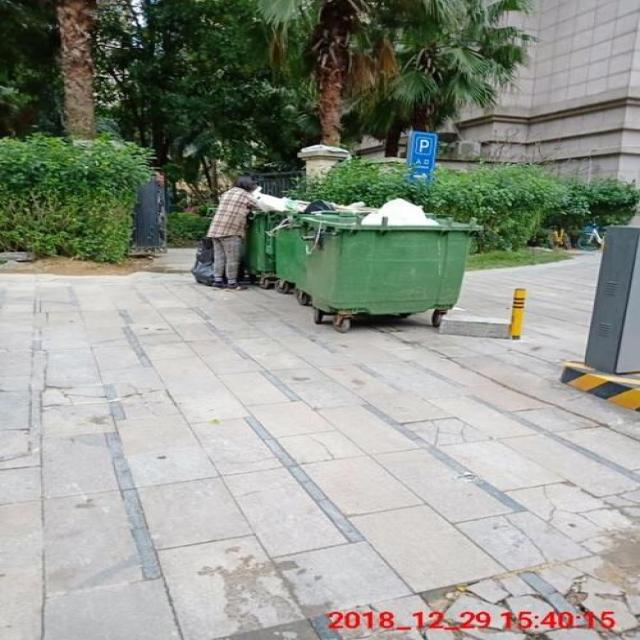overflow: (298, 200, 482, 312), (248, 189, 302, 283)
